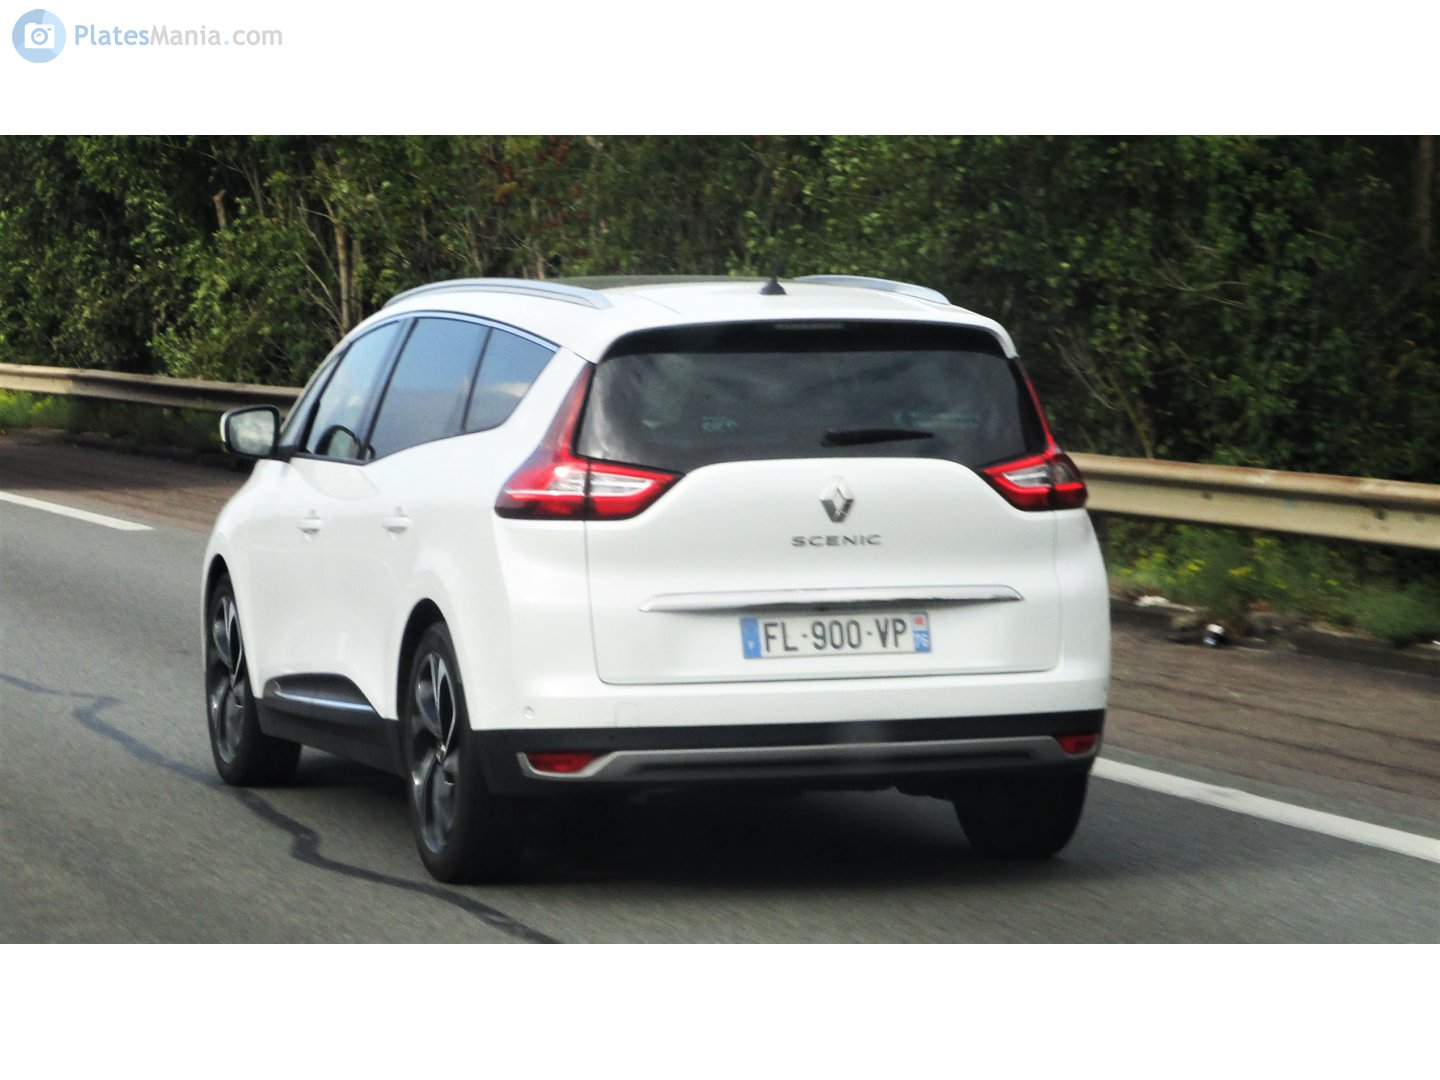licence plate: (736, 603, 937, 663)
